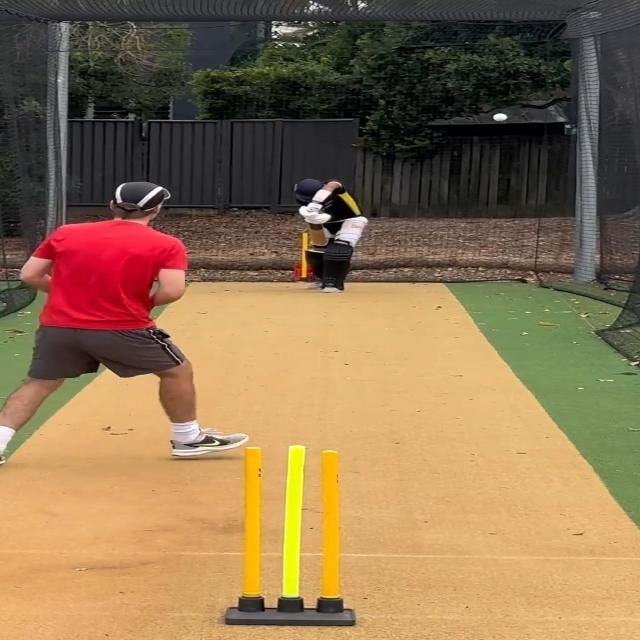ball: (493, 113, 508, 122)
stump: (220, 444, 357, 626)
